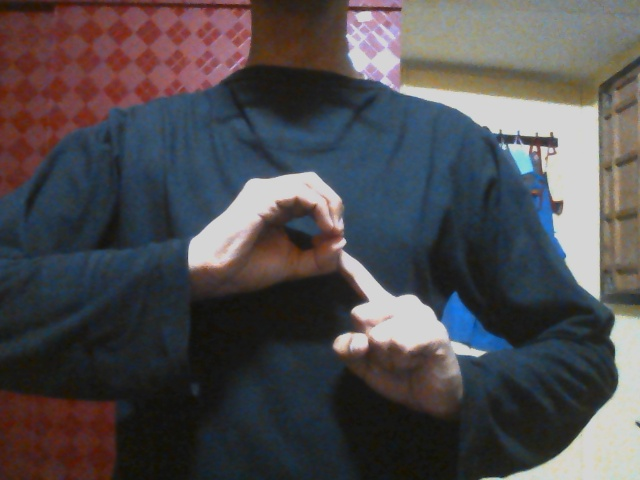Q: (194, 166, 456, 431)
